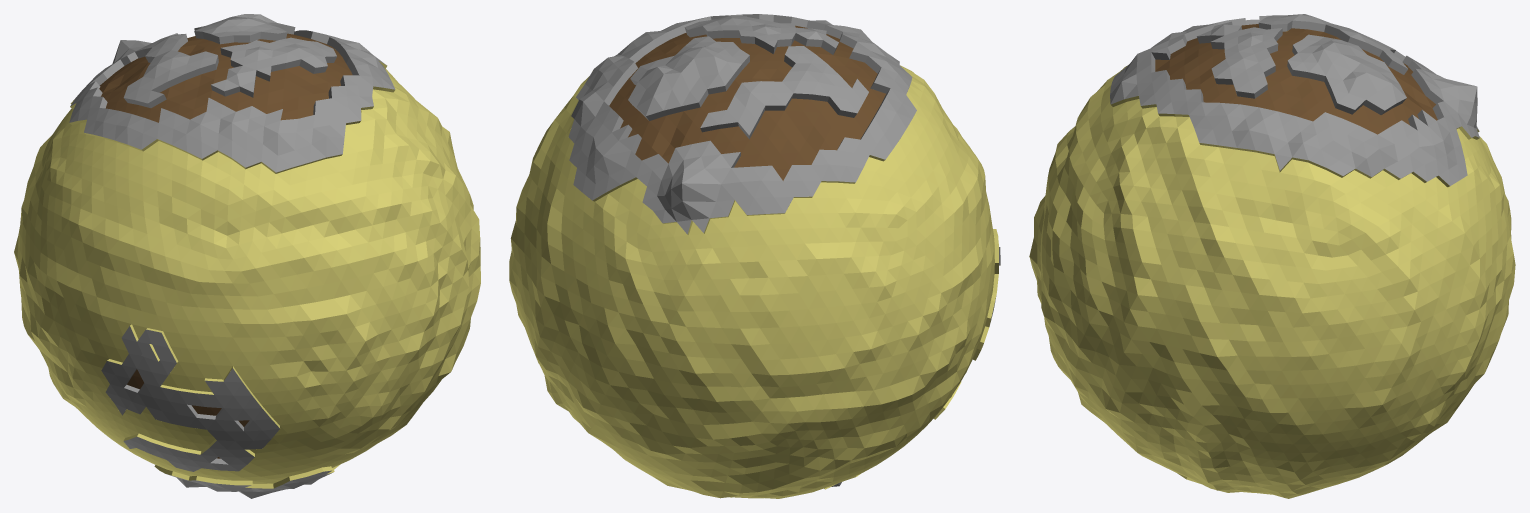
File: planet-3.glb
The picture shows the model from 3 angles, left to right: view 1: azimuth 30°, elevation 25°; view 2: azimuth 150°, elevation 25°; view 3: azimuth 270°, elevation 25°; orthographic projection. The views are drawn at different scales.
Parts seen in each view (by area): view 1: Icosphere.020_Sand.002_0, Icosphere.020_Rocks.001_0, Icosphere.020_Ground.002_0; view 2: Icosphere.020_Sand.002_0, Icosphere.020_Rocks.001_0, Icosphere.020_Ground.002_0; view 3: Icosphere.020_Sand.002_0, Icosphere.020_Rocks.001_0, Icosphere.020_Ground.002_0.
Boxes of the visible parts, x1,y1,x2,y2 form: Icosphere.020_Sand.002_0: (14, 61, 480, 488); Icosphere.020_Rocks.001_0: (69, 14, 395, 498); Icosphere.020_Ground.002_0: (99, 33, 352, 458); Icosphere.020_Sand.002_0: (509, 65, 998, 498); Icosphere.020_Rocks.001_0: (568, 14, 1000, 487); Icosphere.020_Ground.002_0: (609, 25, 885, 180); Icosphere.020_Sand.002_0: (1029, 66, 1515, 498); Icosphere.020_Rocks.001_0: (1110, 14, 1479, 185); Icosphere.020_Ground.002_0: (1155, 24, 1437, 134).
Bounding box in the file's own units: 1.98 × 2.04 × 2.01.
